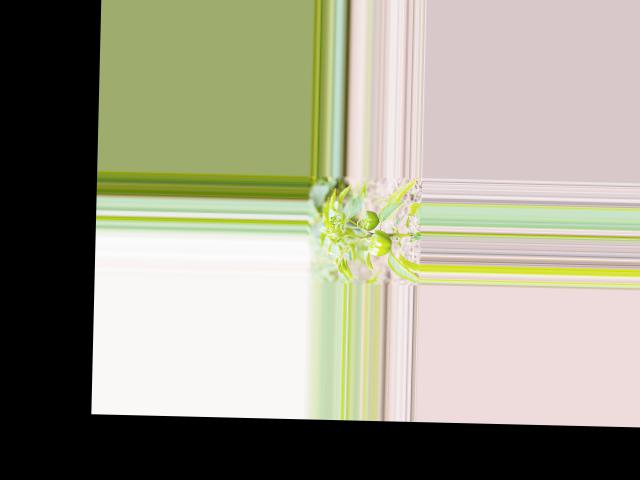bell_pepper: (360, 209, 380, 230)
